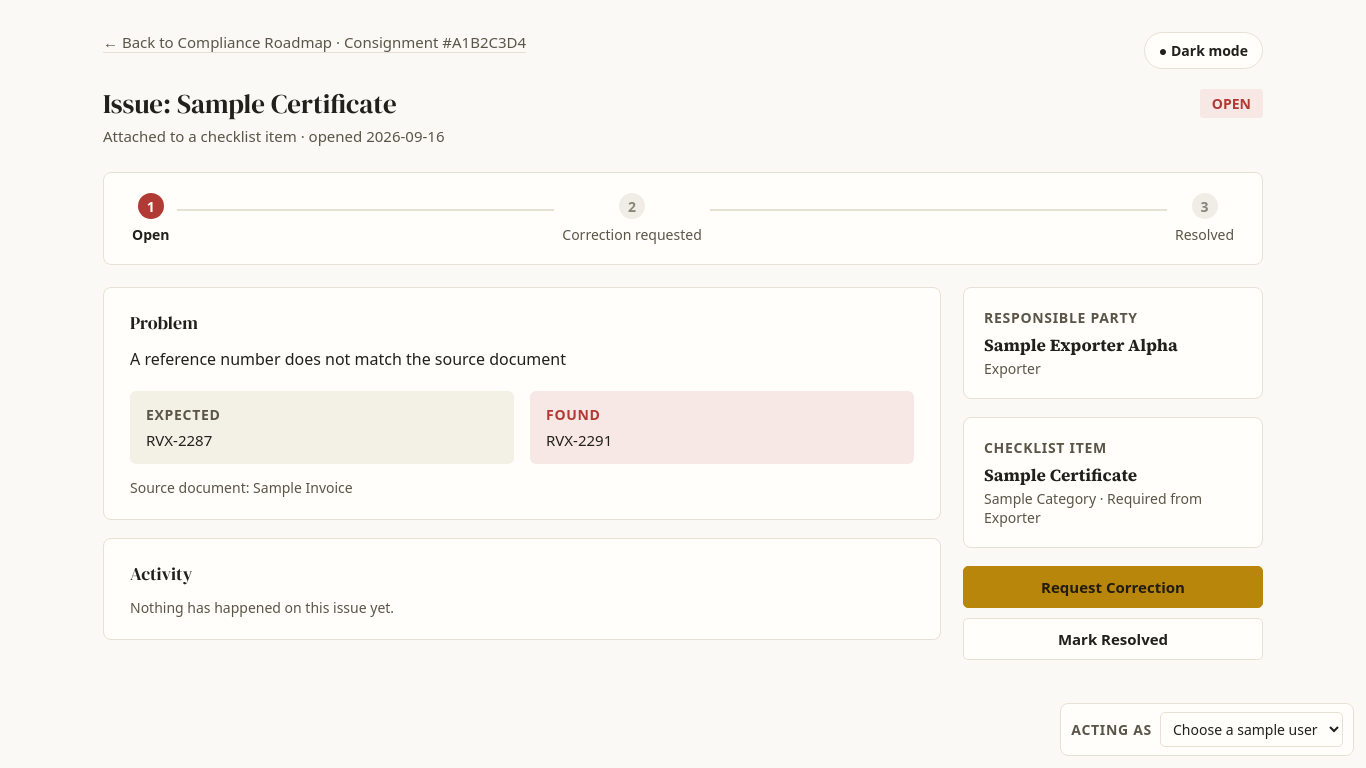
it: issue: marking it resolved › asks first, then resolves, and the screen follows
Click the button "Mark Resolved".
click(1113, 639)  # box x1=963 y1=618 x2=1263 y2=660
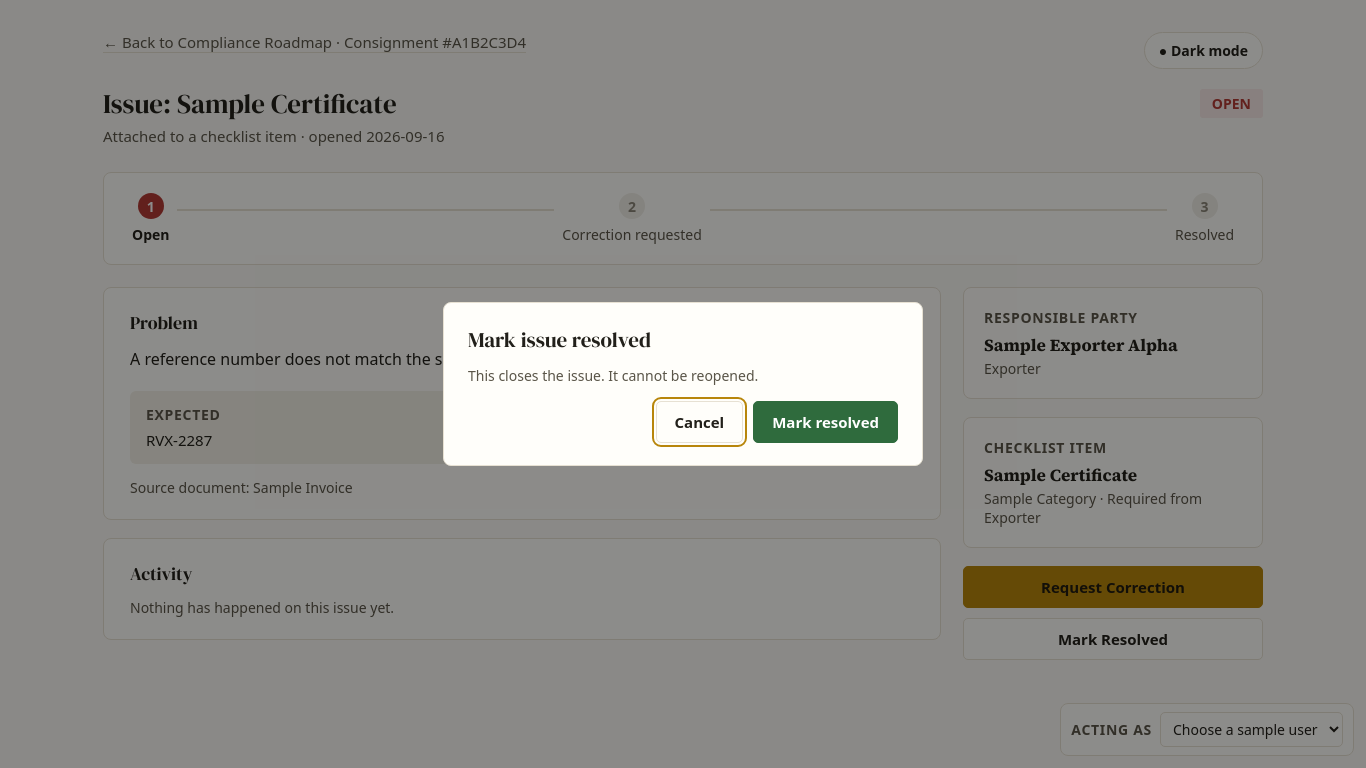
Click the button "Mark resolved".
click(826, 422)  # box x1=753 y1=401 x2=898 y2=443
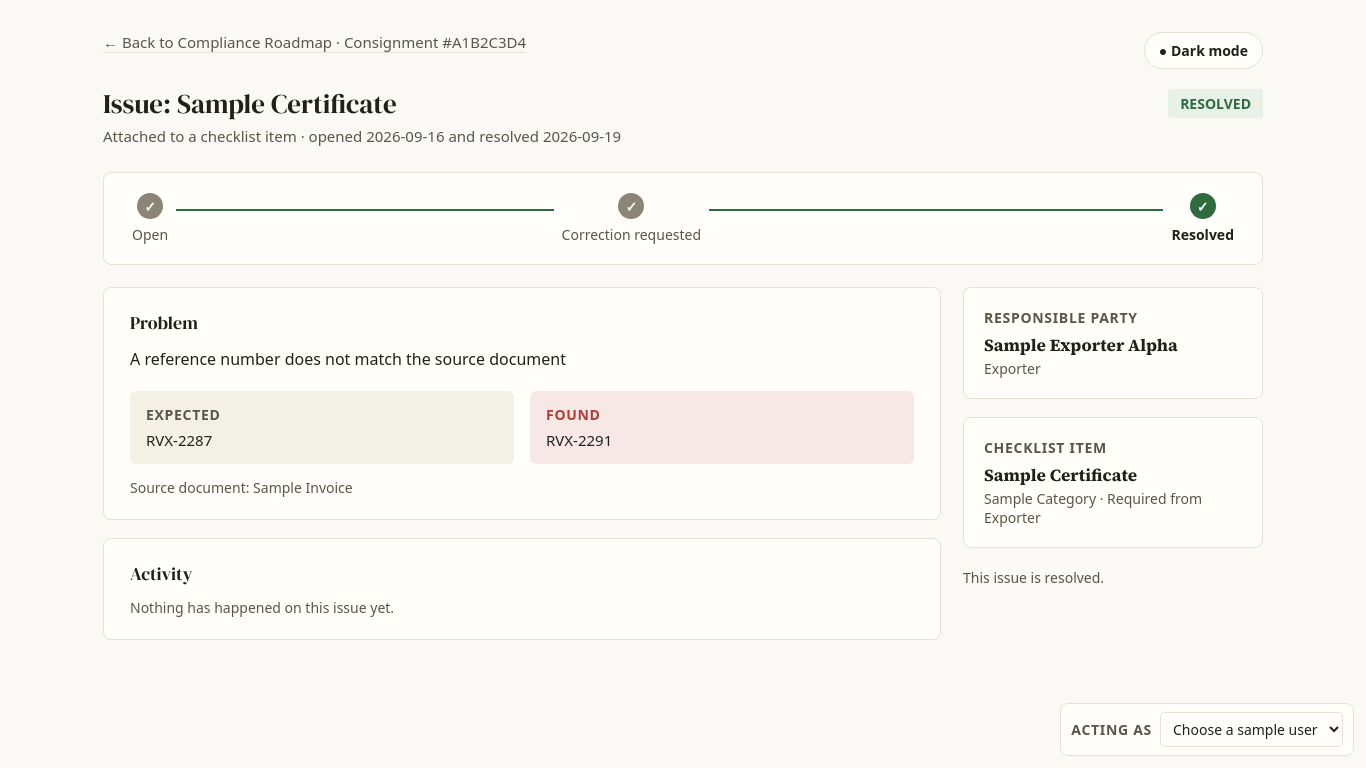
Now the dialog is gone
Now the text with class "is-status" reads "Resolved", box x1=1180 y1=94 x2=1251 y2=113
Now the text "This issue is resolved." is shown, box x1=963 y1=568 x2=1104 y2=587
